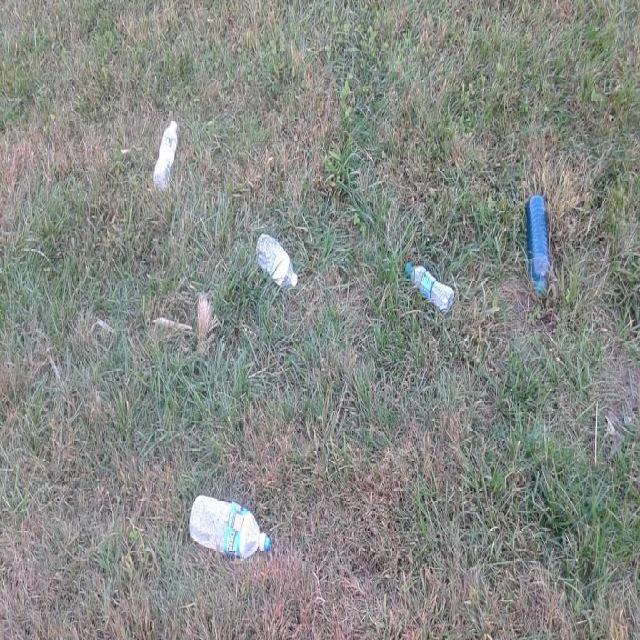bottle: (180, 470, 284, 578), (138, 69, 196, 254), (511, 178, 562, 348), (244, 200, 306, 303), (399, 260, 461, 320)
